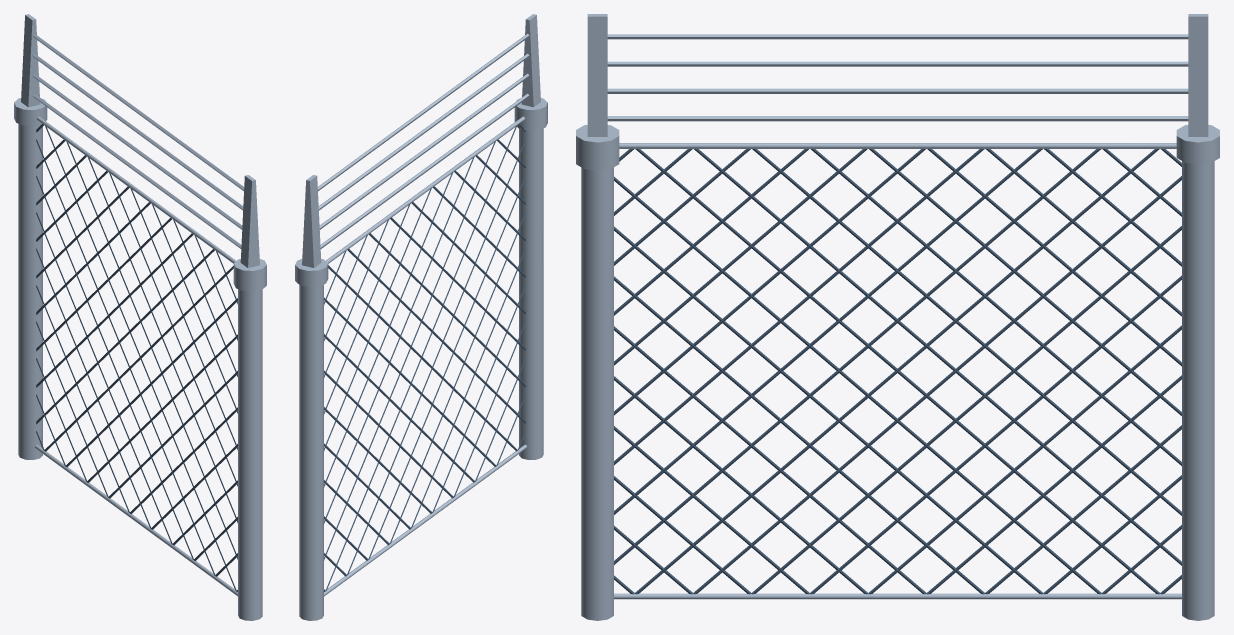
The model's file is Alambre_Simple.fbx.
3 renders of one model, left to right at view 1: azimuth 30°, elevation 25°; view 2: azimuth 150°, elevation 25°; view 3: azimuth 270°, elevation 25°, orthographic. The views are drawn at different scales.
Visible parts, largest first — view 1: Alambre_Simple; view 2: Alambre_Simple; view 3: Alambre_Simple.
Boxes of the visible parts, x1,y1,x2,y2 form: Alambre_Simple: [14, 14, 266, 620]; Alambre_Simple: [295, 14, 547, 620]; Alambre_Simple: [576, 14, 1219, 620].
Bounding box in the file's own units: 44.75 × 650 × 634.
